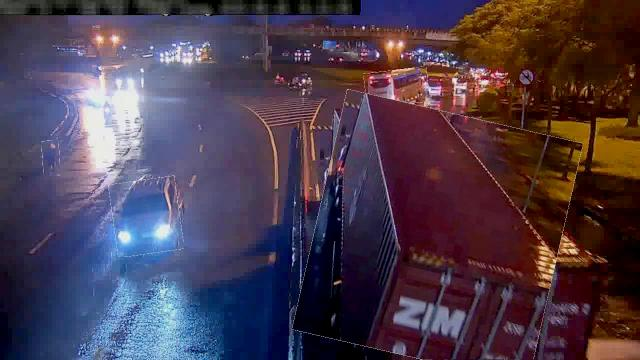Bike: (42, 140, 60, 176)
Bus: (364, 68, 430, 108)
Car: (110, 178, 182, 255)
Truck: (304, 101, 572, 359)
